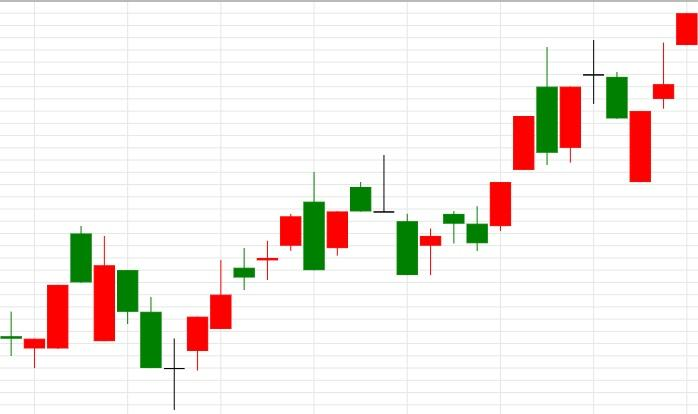bearish_engulfing_fall: (163, 171, 326, 410)
evening_star_fall: (466, 39, 628, 251)
morning_star_rise: (70, 226, 210, 410)
three_white_soldiers_rise: (582, 12, 698, 182)
